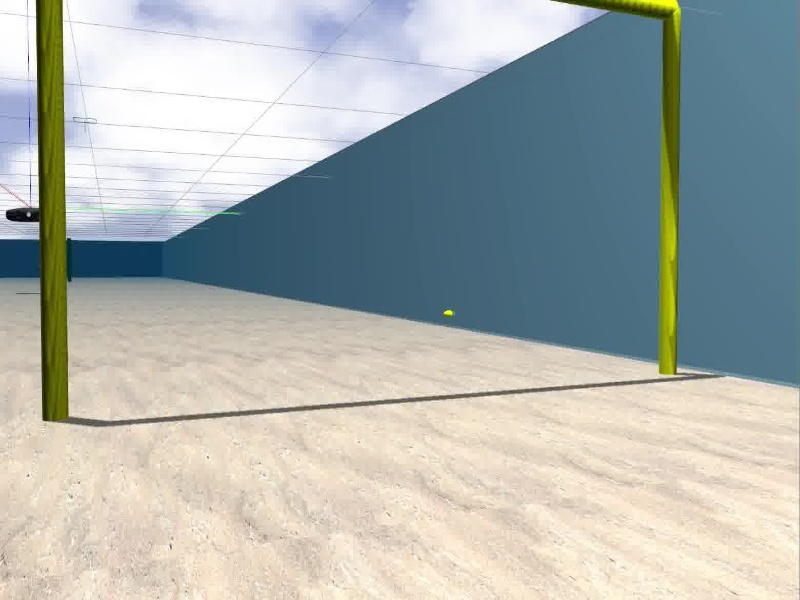gate: (37, 1, 683, 425)
